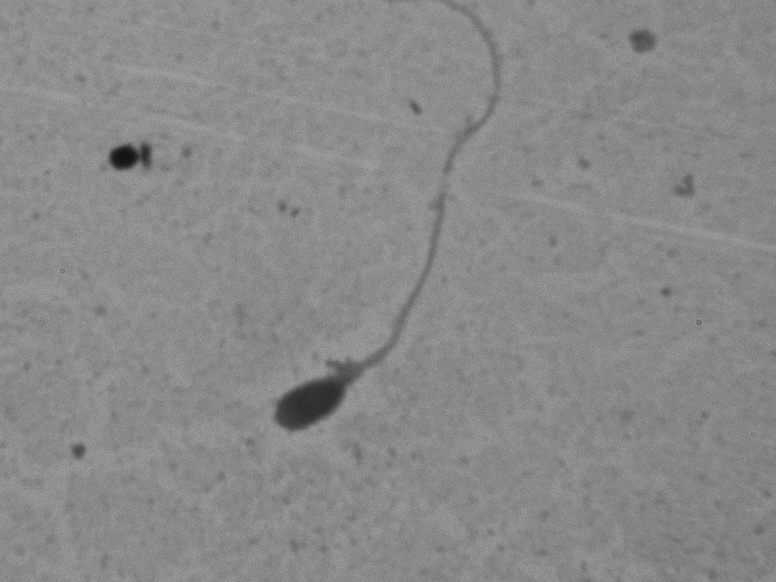Abnormal: (212, 5, 524, 447)
